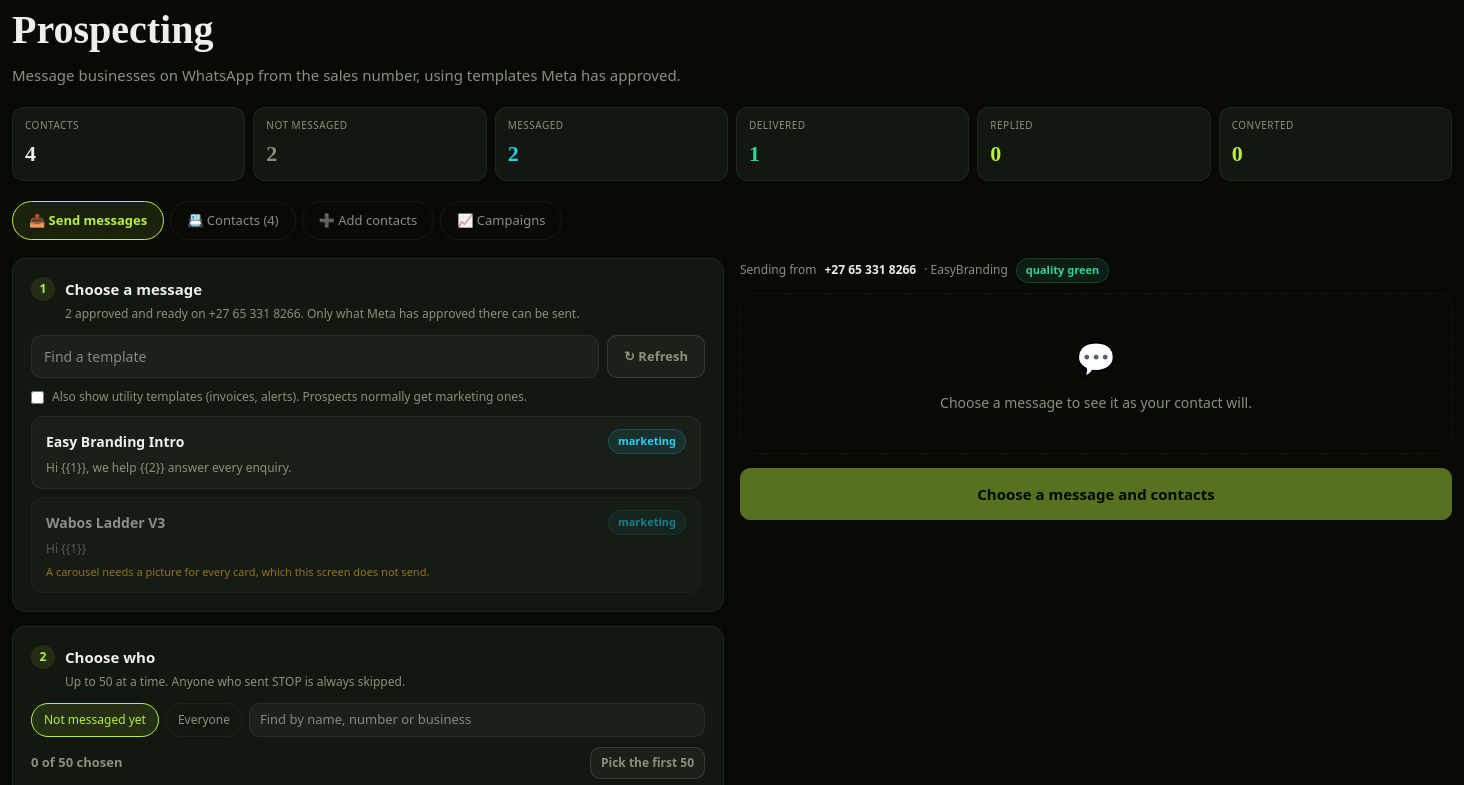
it: ProspectingPanel › offers the approved marketing templates, explains the unsendable, and hides utility unless asked
Expected: the text "easy branding intro" is shown, [46,431,184,452]
Expected: the text "carousel needs a picture" is shown, [46,564,429,579]
Click the checkbox labelled "Also show utility templates" at (38, 397), box [31,390,44,404]
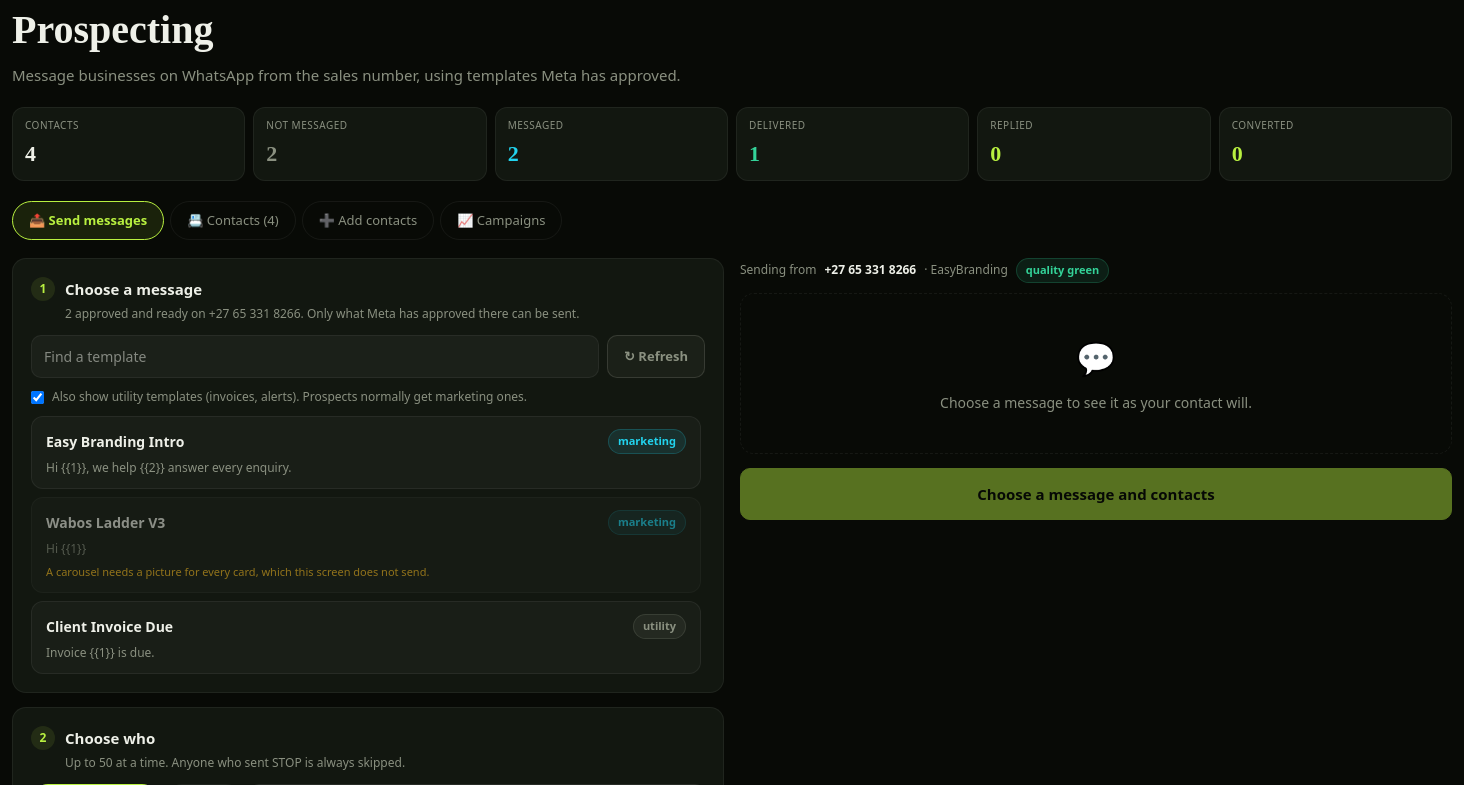
Expected: the text "+27 65 331 8266" is shown, [824,261,916,279]
Expected: the text "client invoice due" is shown, [46,616,173,637]
